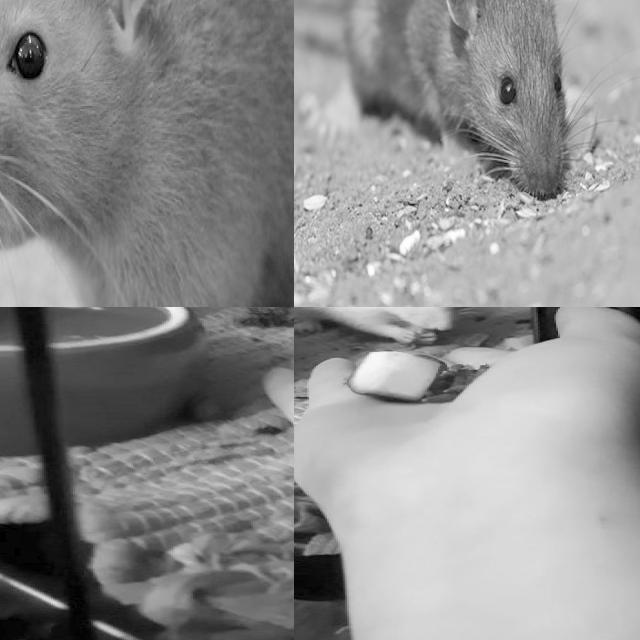rat: (0, 0, 294, 307), (344, 0, 566, 197), (294, 307, 467, 345)
